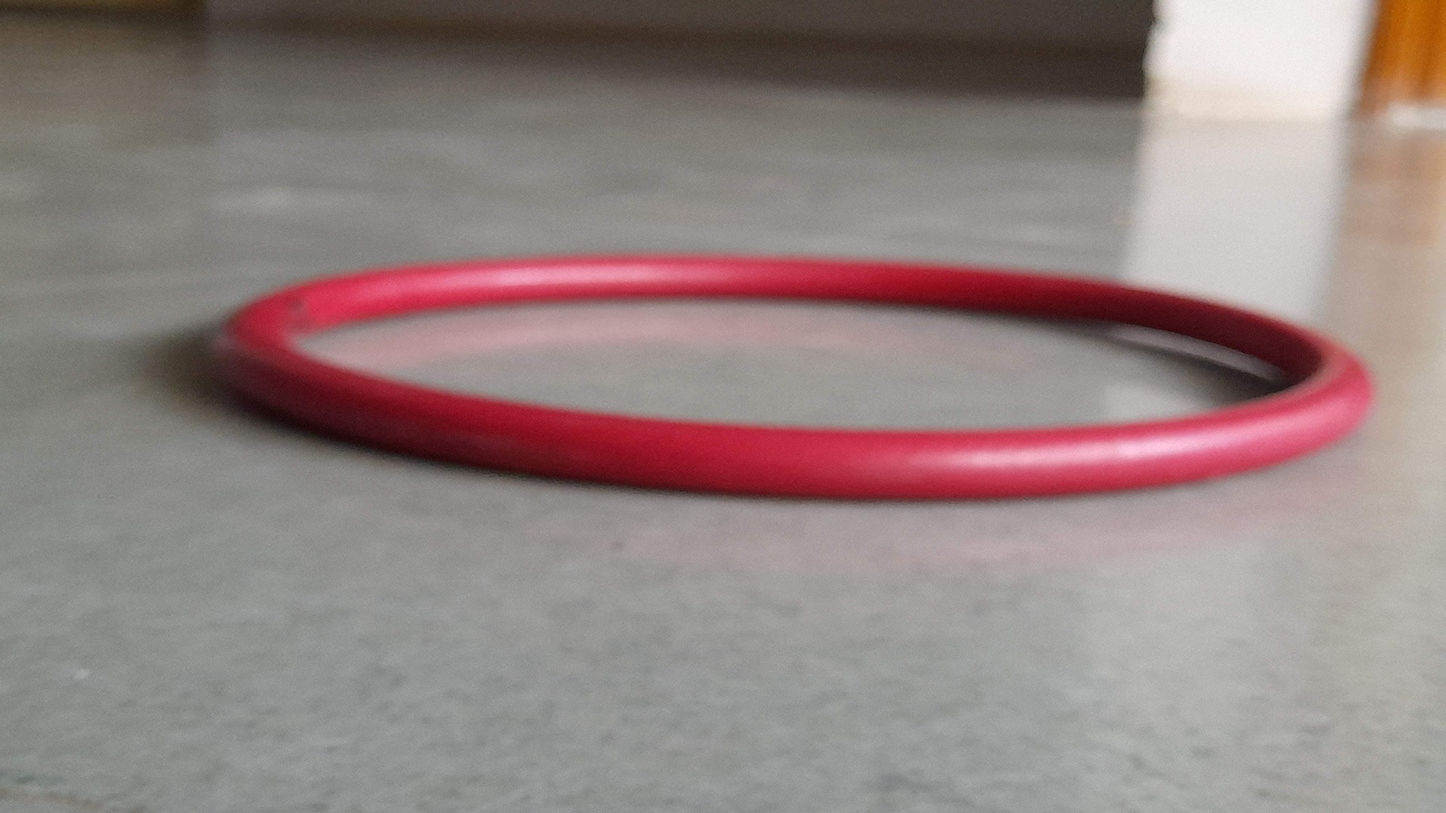Red ring: (208, 262, 1375, 495)
